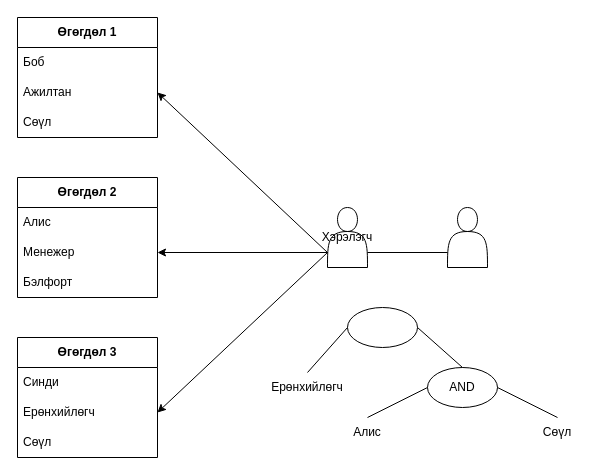
Some shapes in this 605 by 475 pixel diagram are drawn without their labels. The shapes that lost their labels are listed below. From the top down, each one's centre as x and y in pixels, then its label:
point 467,237: үйлчилгээ үзүүлэгч
point 382,327: OR
